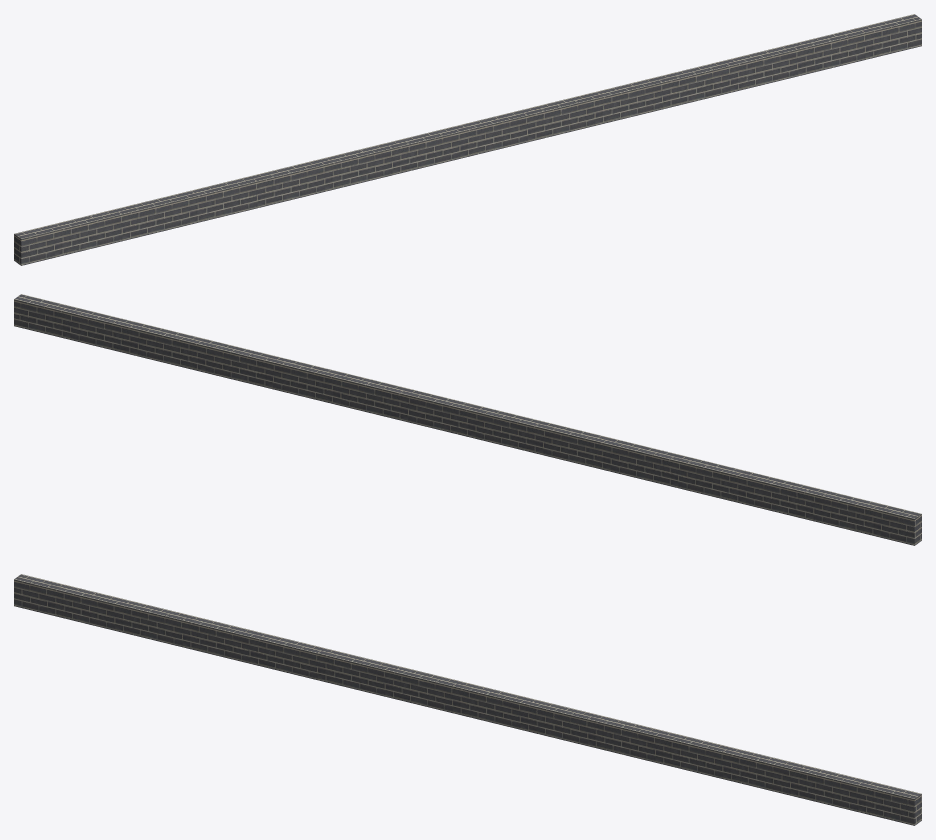
Rendered from WallNorthSouth.fbx.
3 views of the same model, one above another, from view 1: azimuth 30°, elevation 25°; view 2: azimuth 150°, elevation 25°; view 3: azimuth 330°, elevation 25° (orthographic).
Visible parts, largest first — view 1: wall north; view 2: wall north; view 3: wall north.
Boxes of the visible parts, box(x1,y1,x2,y2) form: wall north: box(14, 14, 921, 265); wall north: box(14, 294, 921, 545); wall north: box(14, 574, 921, 825).
Bounding box in the file's own units: 69279 × 1971 × 968.
